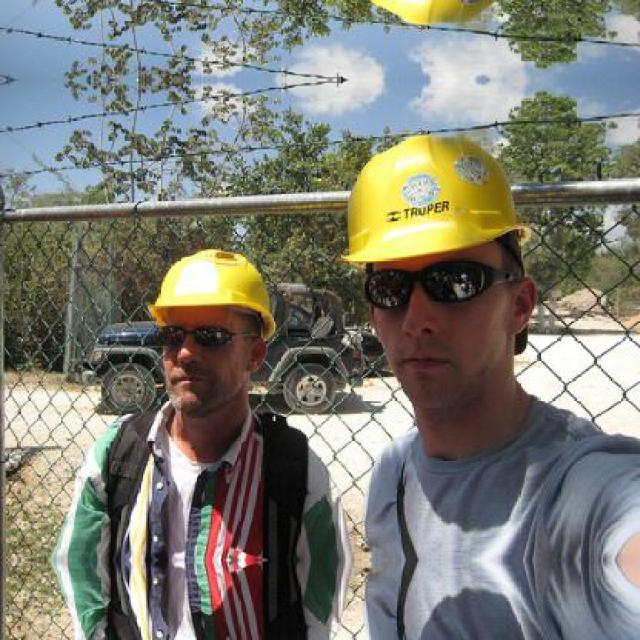helmet: (338, 130, 542, 405), (137, 245, 288, 426)
